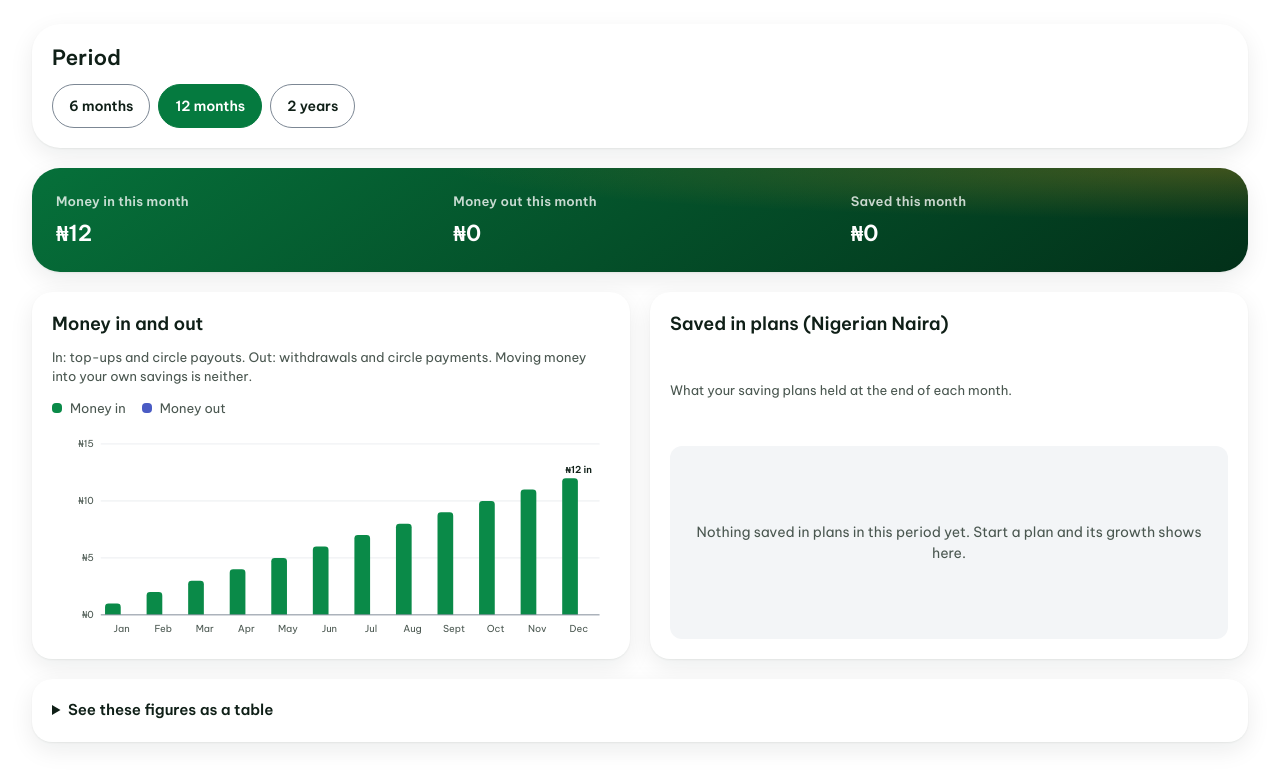
Test: insights › lists the months in the table newest first, a page at a time
This screenshot has width=1280, height=774.
(page scrolled)
Expected: the element named "This month, Dec 2026" is shown, [32, 168, 1248, 272]
Click the heading "See these figures as a table" at (171, 710), box [68, 700, 273, 719]
(page scrolled)
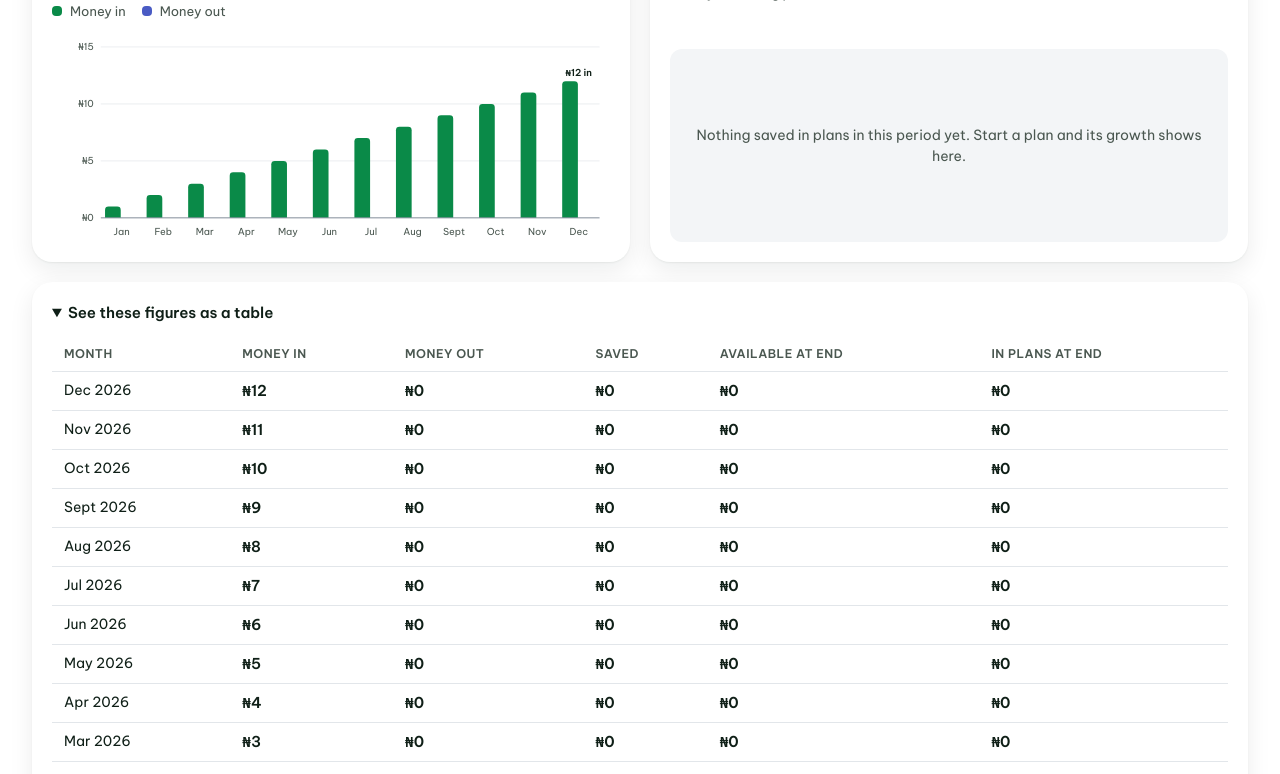
Expected: the row "Dec 2026 ₦12 ₦0 ₦0 ₦0 ₦0" is shown, [52, 371, 1228, 410]
